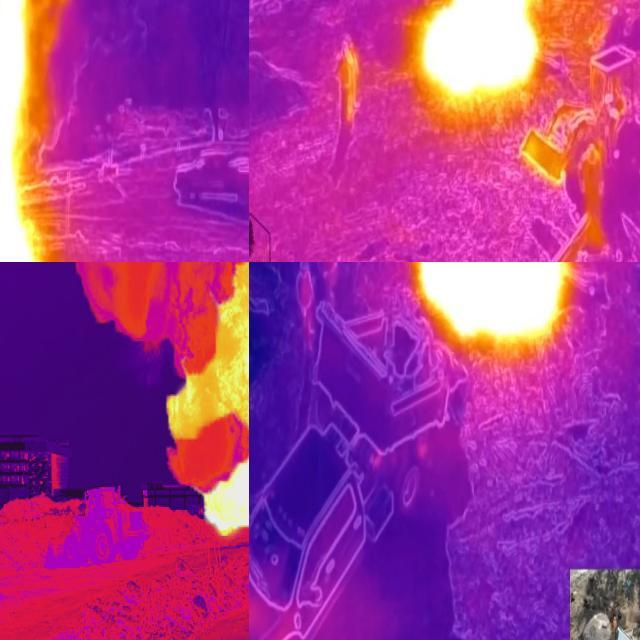fire: (153, 263, 250, 543), (412, 263, 573, 357), (1, 1, 47, 263), (421, 1, 539, 100)
